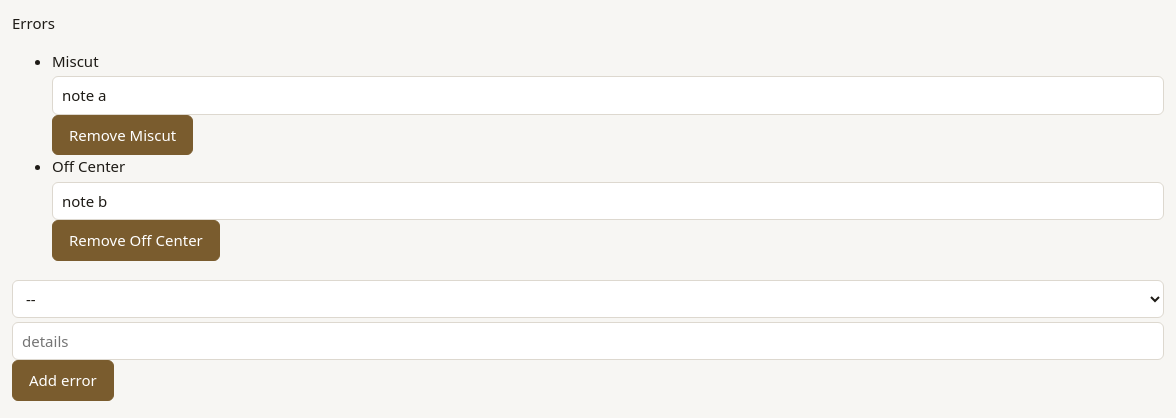
Test case: ErrorsPanel, self-loading (itemId set) › removing a row and saving sends the remaining set
Expected: the text "Miscut" is shown, [52,50,98,70]
Click the button "Remove Miscut". click: coordinates (123, 135)
box: [52,114,193,155]
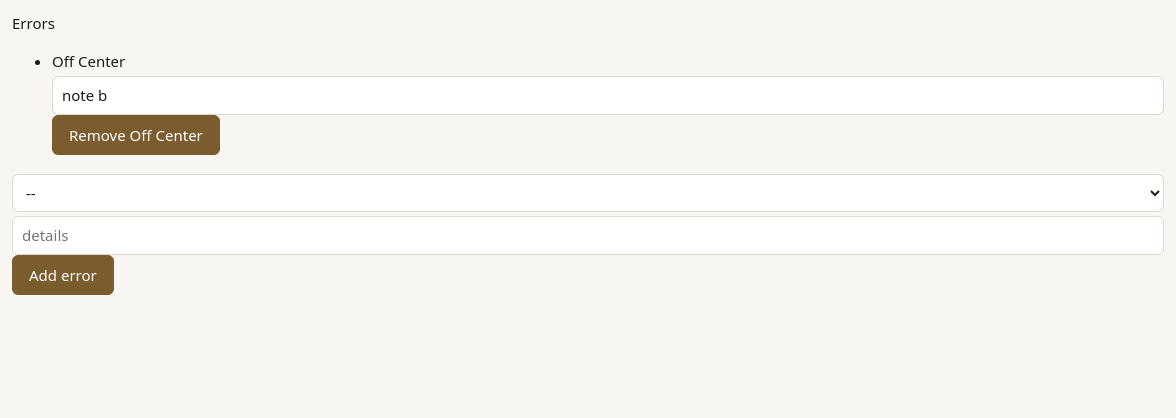
Now the text "Miscut" is gone
